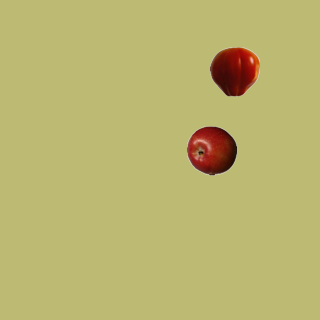Apple Braeburn: (186, 125, 236, 175)
Tomato 1: (209, 46, 259, 96)
